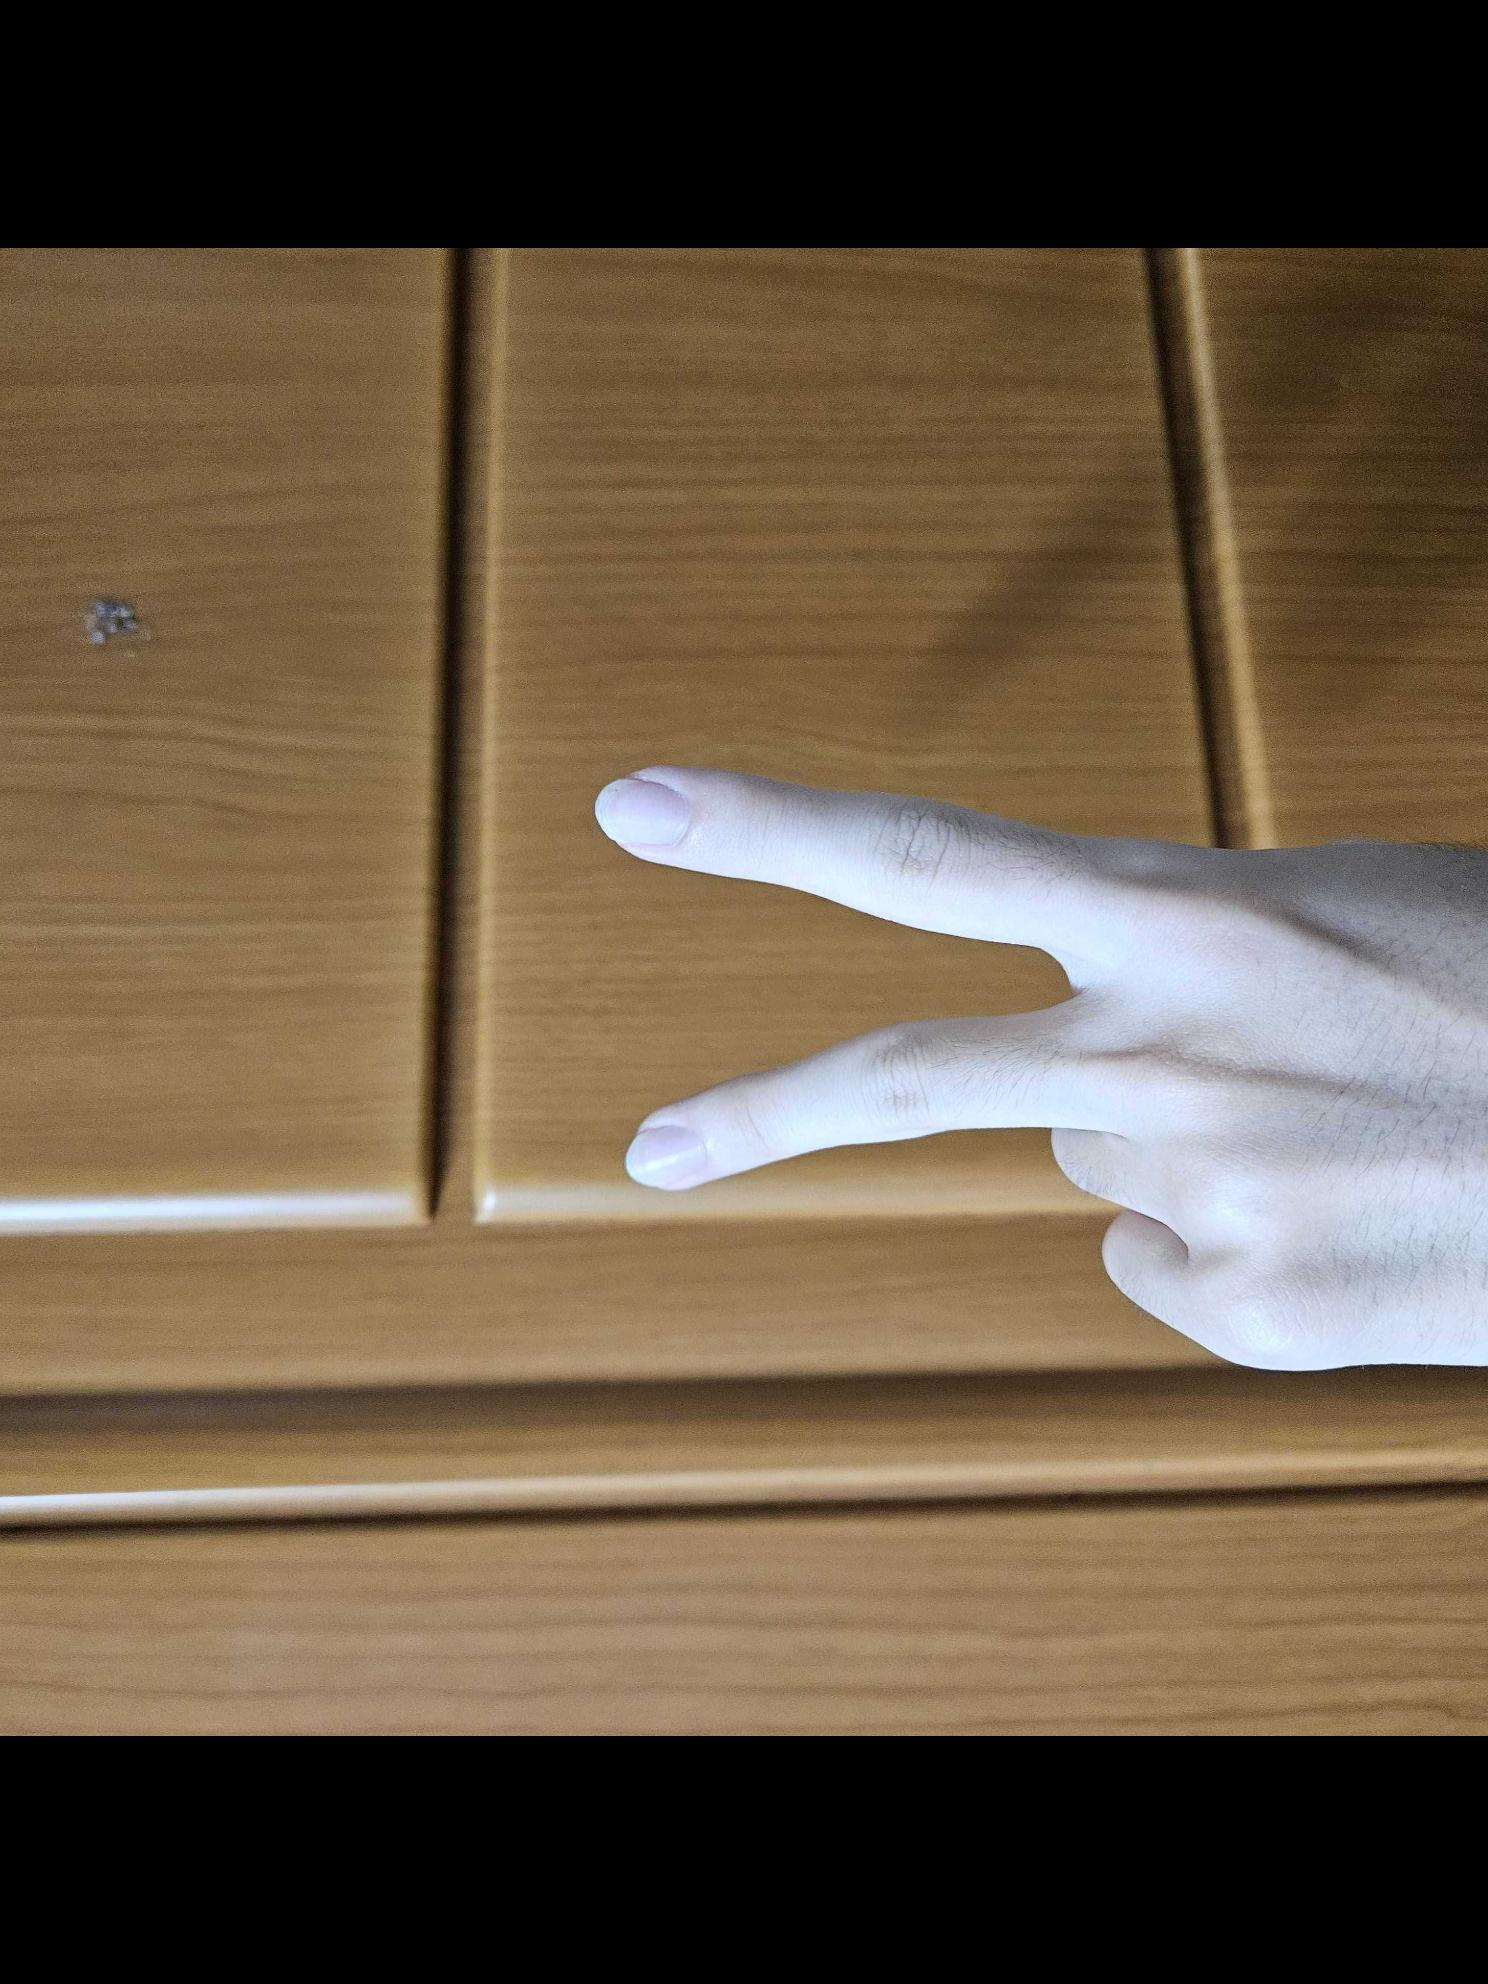v: (575, 755, 1488, 1385)
